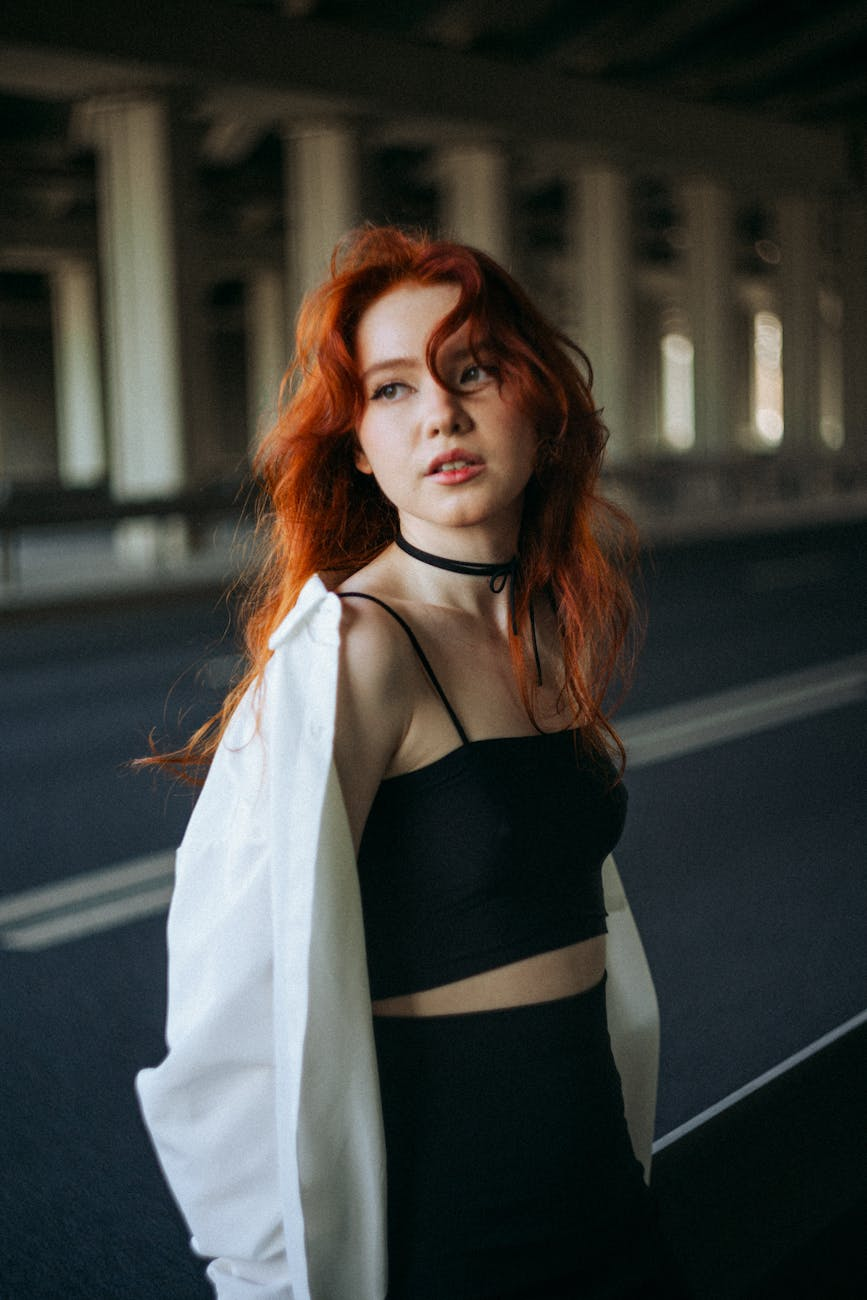crop_top: (232, 543, 636, 991)
